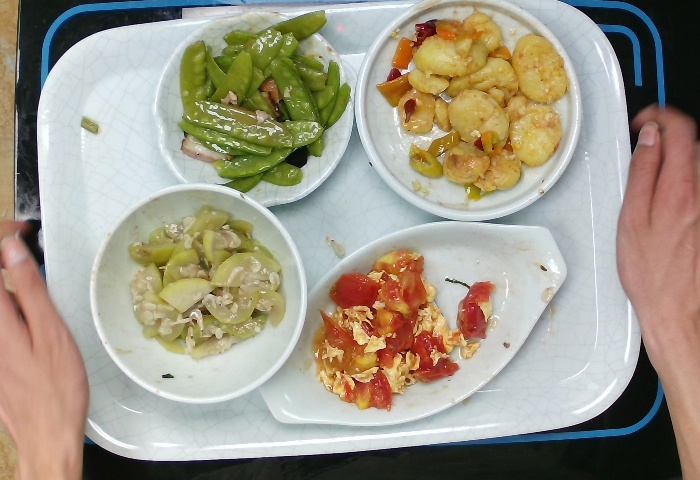JYsf-Ao_Yuan_Wan: (150, 8, 362, 214)
JYsf-Fan_Wan: (89, 183, 310, 405)
JYsf-Xiao_Yuan_Pan: (352, 1, 587, 226)
JYsf-Yu_Pan: (254, 217, 569, 429)
